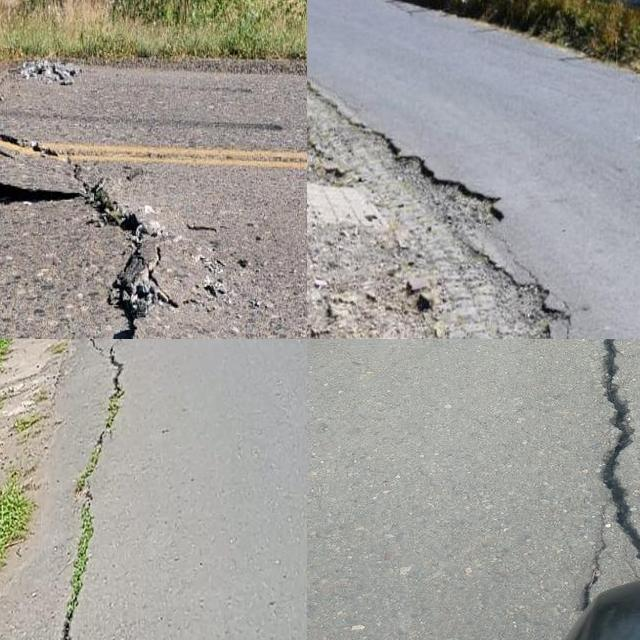Memanjang: (0, 64, 184, 339), (55, 339, 137, 640), (581, 339, 640, 581)
Pinggir: (307, 83, 580, 339)
